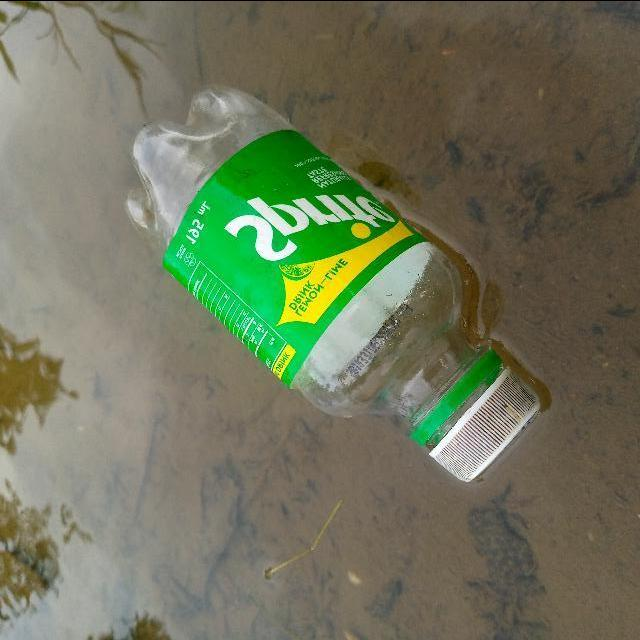Bottle: (113, 71, 556, 495)
